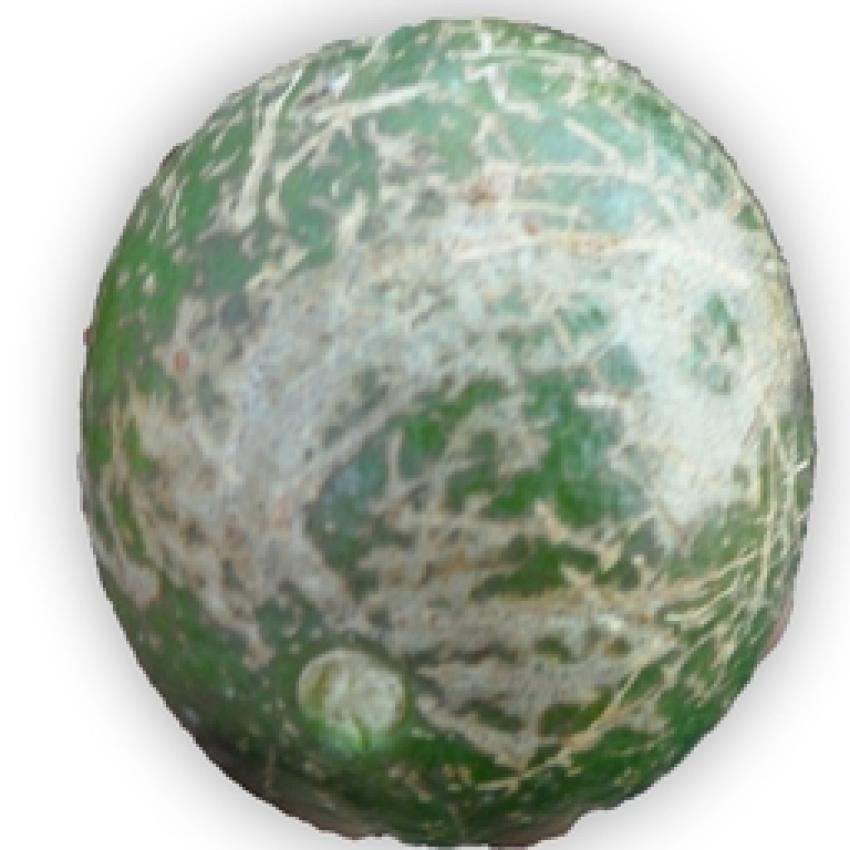Mal estado: (53, 0, 806, 845)
